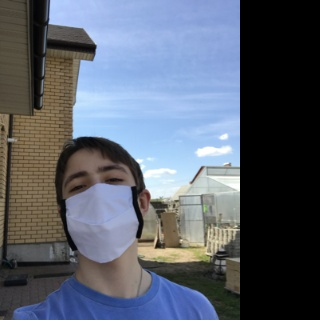with_mask: (60, 162, 144, 264)
